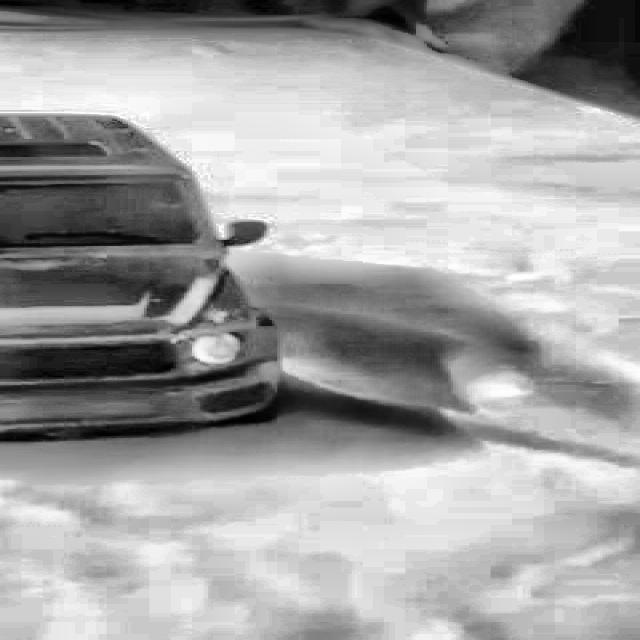light_vehicle: (0, 110, 261, 451)
